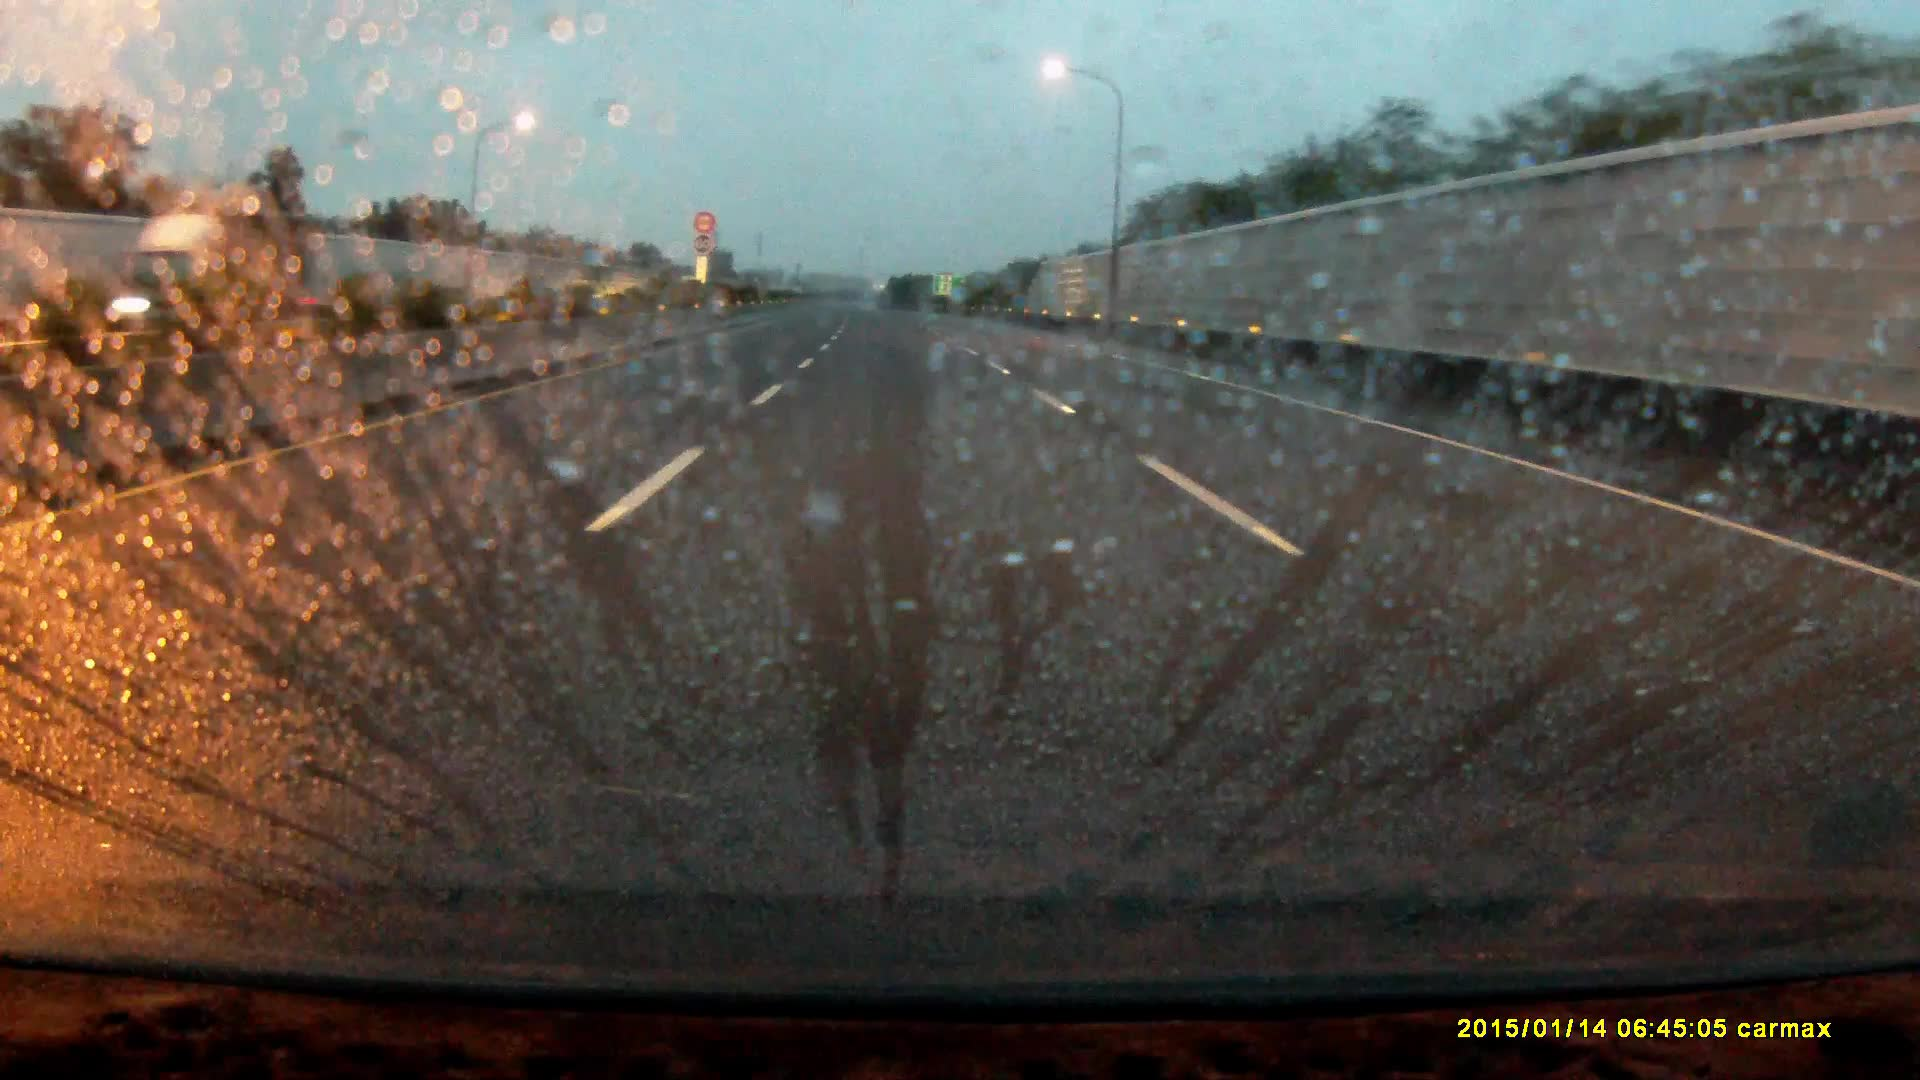vehicle: (113, 210, 316, 332)
